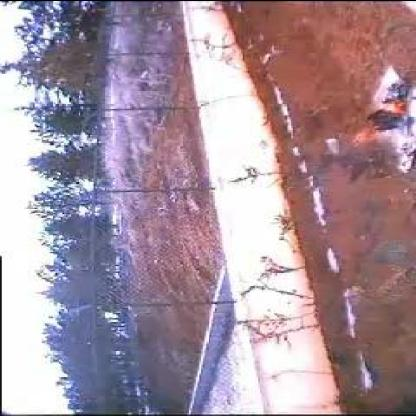-: (356, 145, 390, 167)
foggia-v2-map80-epoch100 - v1 4323: (384, 96, 406, 116)
